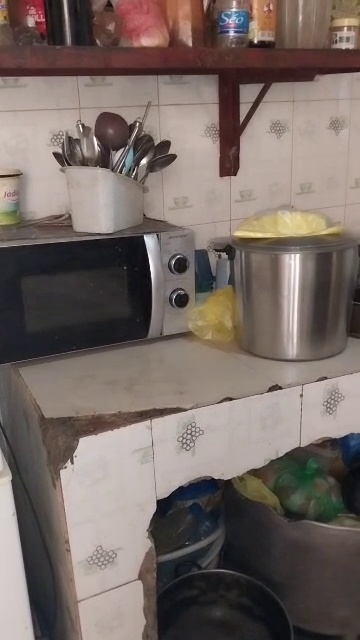microwave: (5, 226, 202, 369)
